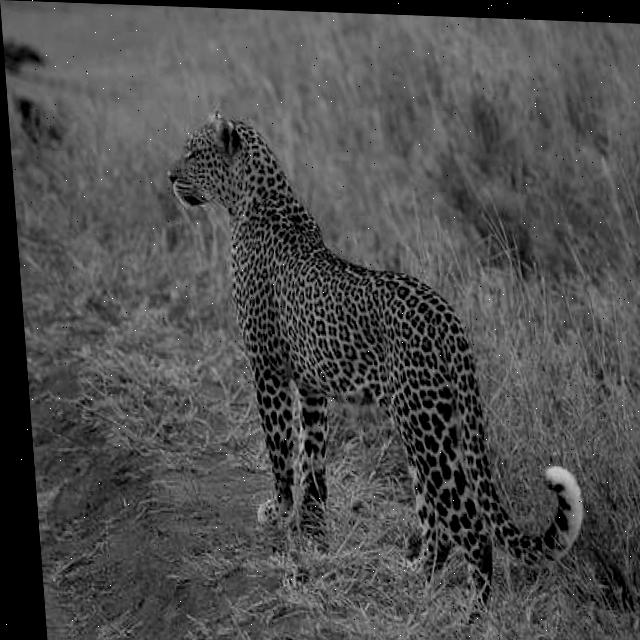Leopard: (161, 104, 592, 621)
